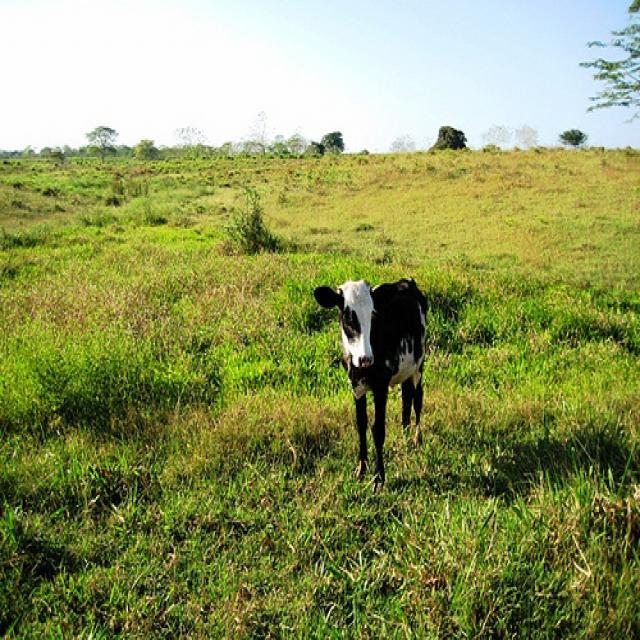cow: (310, 275, 429, 491)
